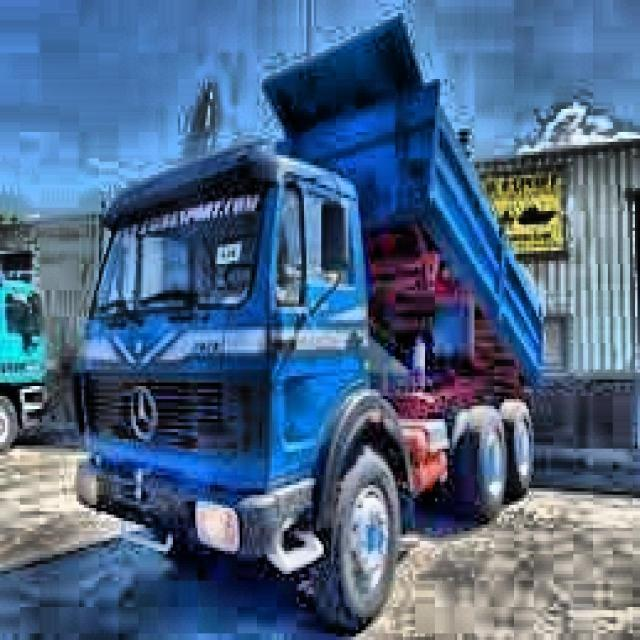dump_truck: (78, 15, 544, 622)
